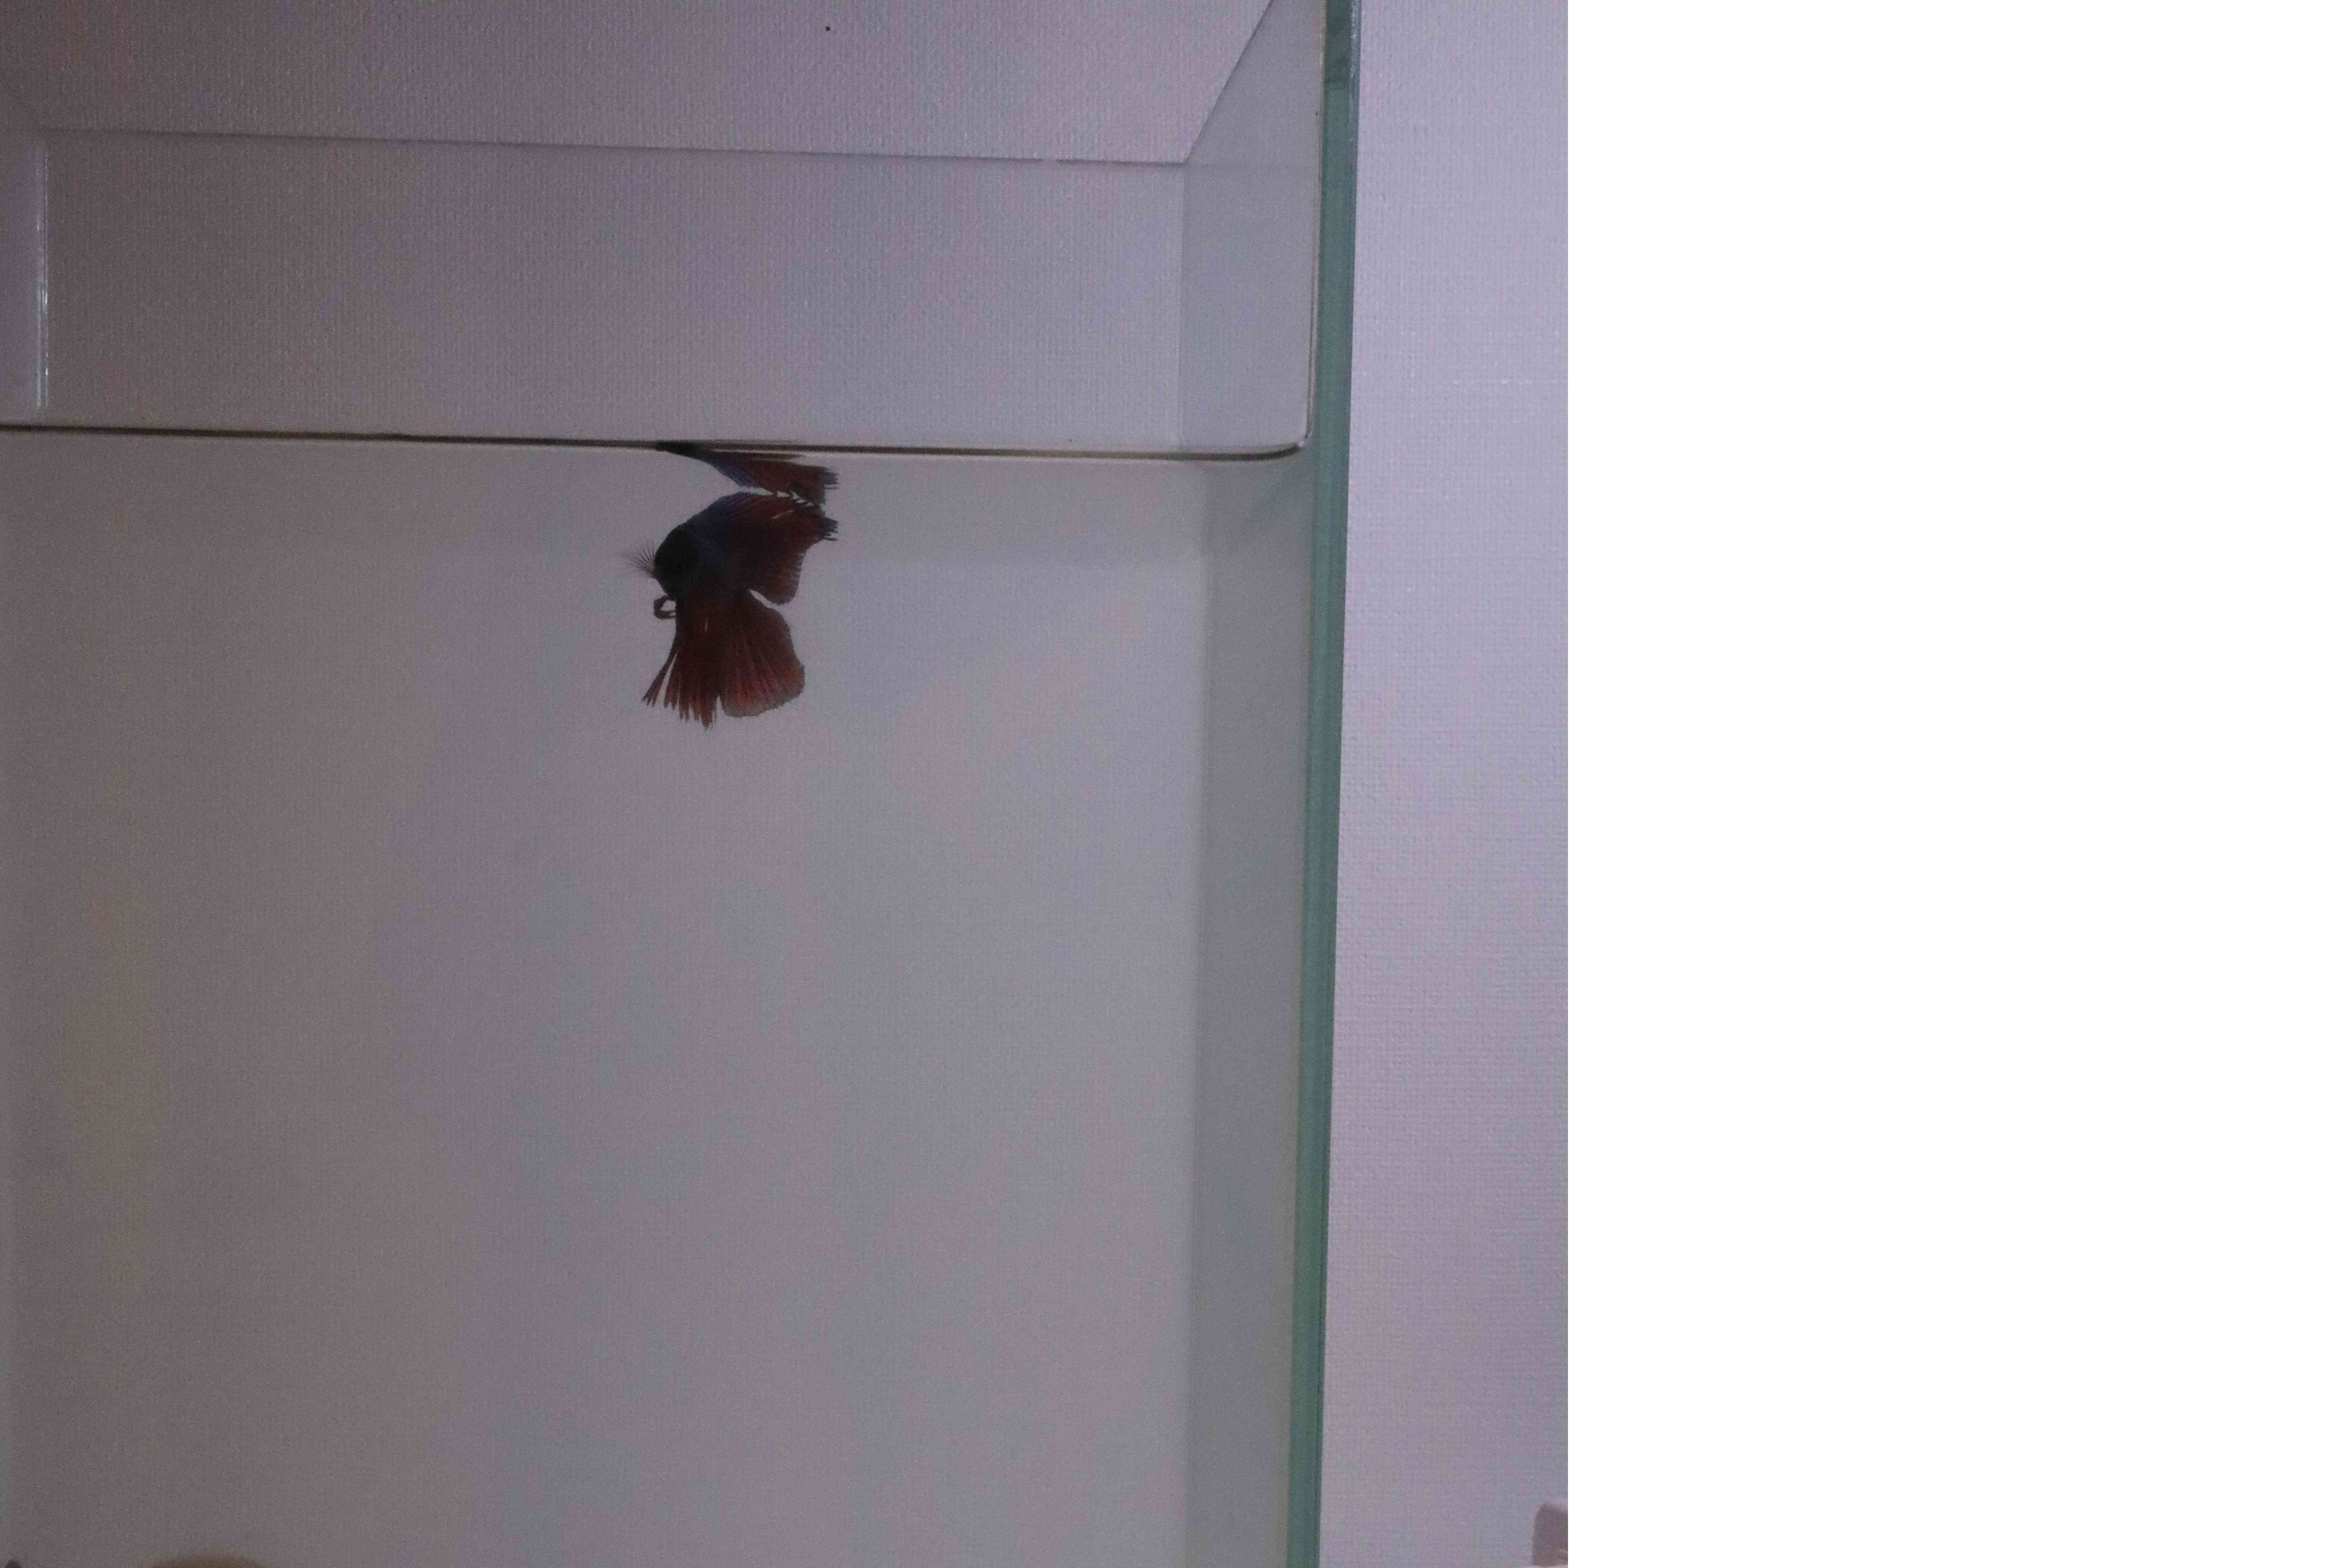fish: (625, 502, 880, 737)
